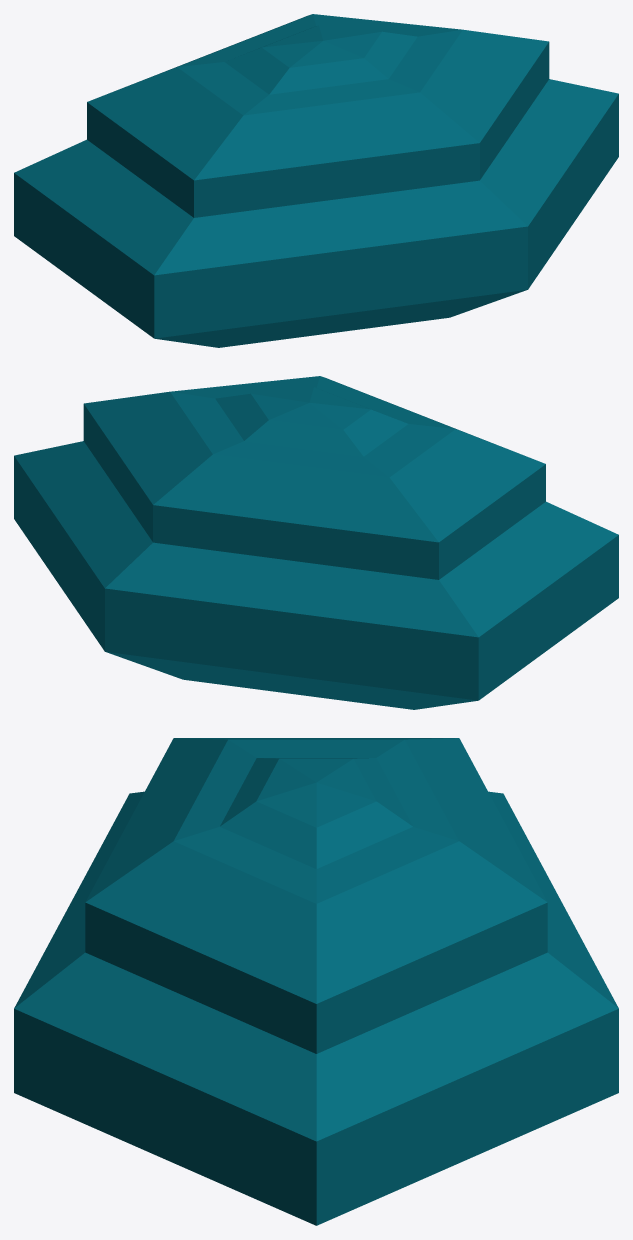
Rendered from magical_bush_cyan.fbx.
3 renders of one model, top to bottom at view 1: azimuth 30°, elevation 25°; view 2: azimuth 150°, elevation 25°; view 3: azimuth 270°, elevation 25°, orthographic. The views are drawn at different scales.
Visible parts, largest first — view 1: pSphere1, pSphere3, pSphere4; view 2: pSphere1, pSphere3, pSphere4; view 3: pSphere1, pSphere3, pSphere4.
Boxes of the visible parts, x1,y1,x2,y2 form: pSphere1: (14, 79, 618, 347); pSphere3: (87, 14, 549, 217); pSphere4: (225, 25, 417, 94); pSphere1: (14, 441, 618, 709); pSphere3: (83, 376, 545, 579); pSphere4: (215, 387, 407, 456); pSphere1: (14, 791, 618, 1225); pSphere3: (85, 738, 547, 1053); pSphere4: (220, 758, 412, 868).
Size of the model in its own units: 7.71 by 3.3 by 5.66.
